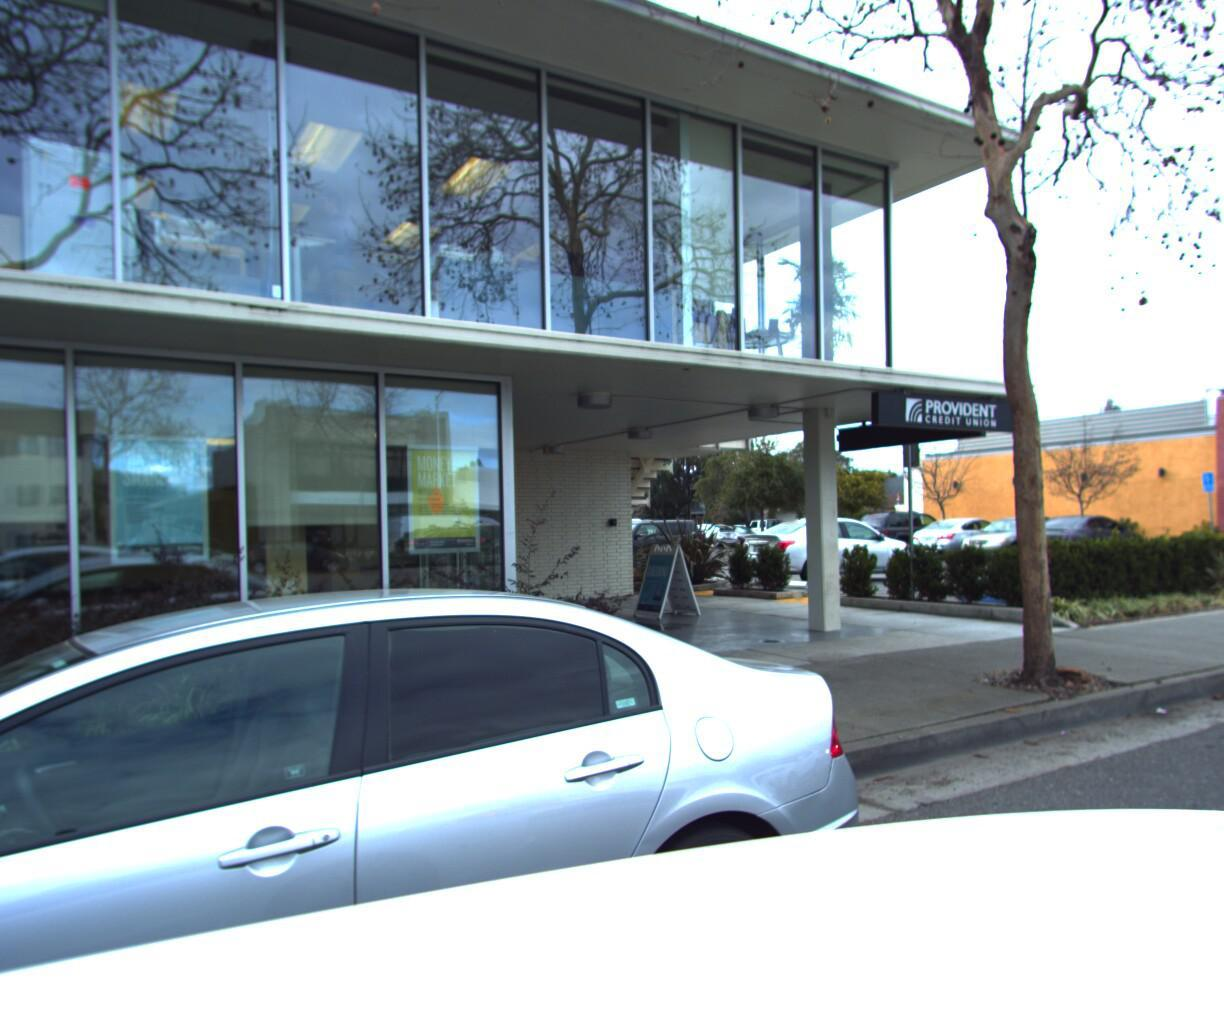car: (0, 546, 958, 1024), (734, 510, 804, 539)
